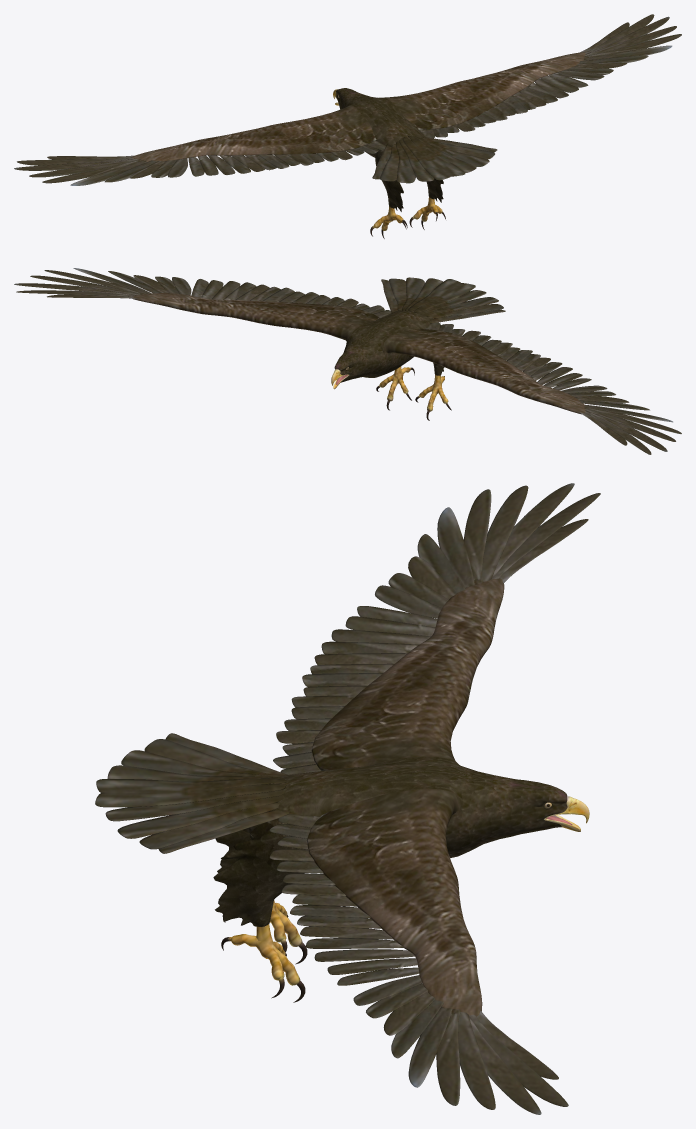
The model's file is eagle.obj.
The picture shows the model from 3 angles, top to bottom: view 1: azimuth 30°, elevation 25°; view 2: azimuth 150°, elevation 25°; view 3: azimuth 270°, elevation 25°; orthographic projection. The views are drawn at different scales.
Parts seen in each view (by area): view 1: Object03; view 2: Object03; view 3: Object03.
Boxes of the visible parts, x1,y1,x2,y2 form: Object03: [14, 14, 681, 238]; Object03: [14, 268, 681, 454]; Object03: [95, 483, 600, 1114].
Bounding box in the file's own units: 214 × 34.05 × 72.53.
Materials: 1 (1 with a texture image).
